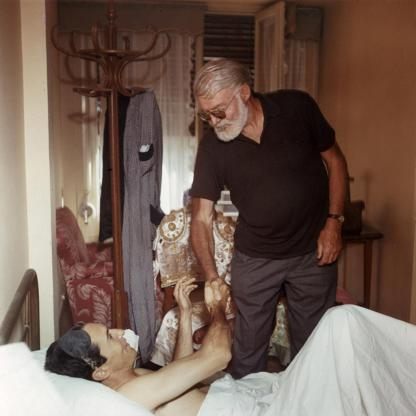face: (90, 321, 141, 365), (199, 95, 245, 143)
